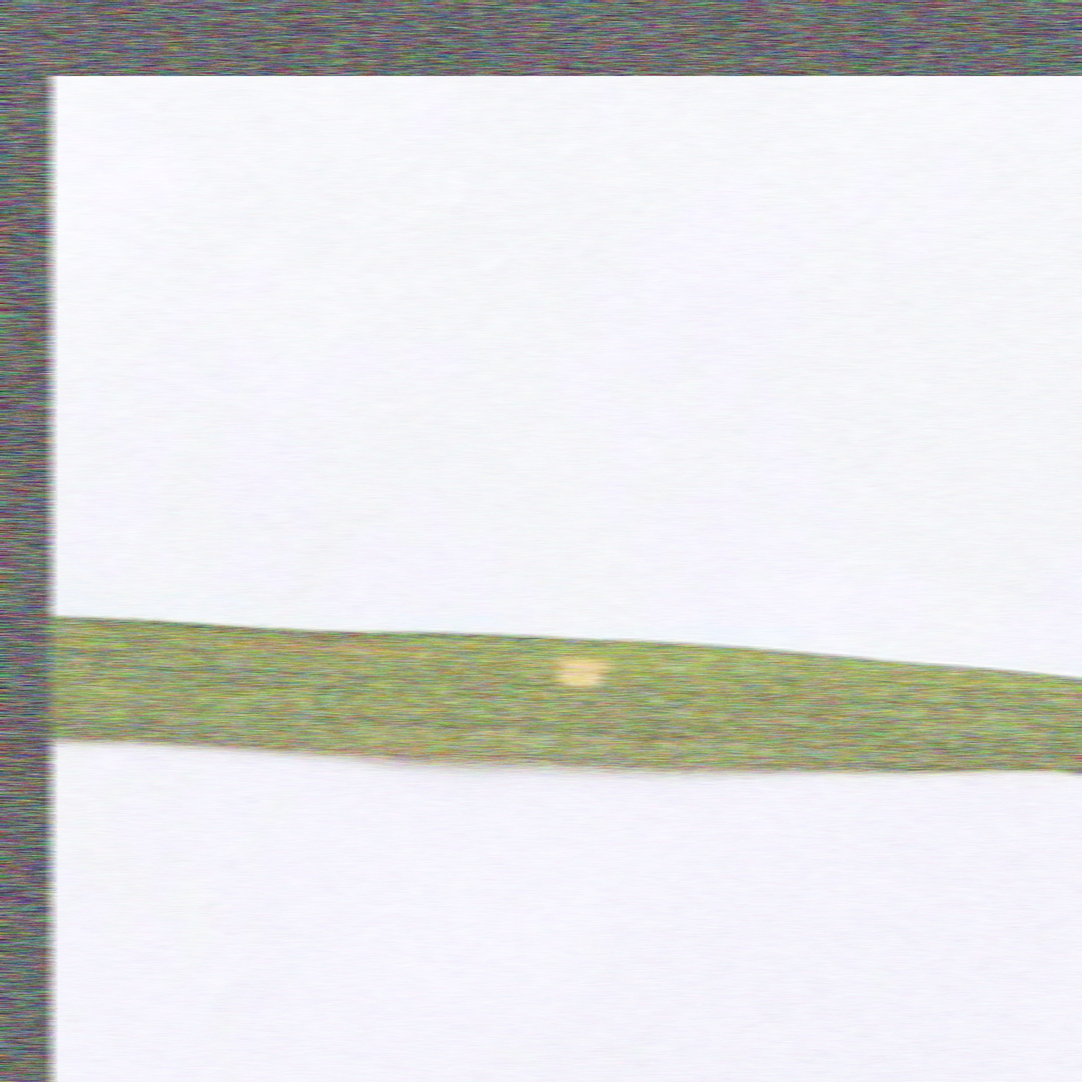Brown_Spot: (539, 628, 630, 693)
